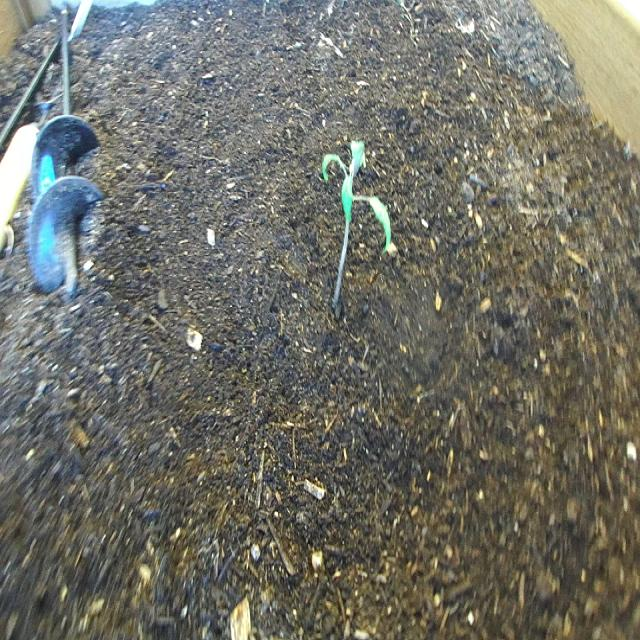Healthy: (319, 137, 394, 313)
